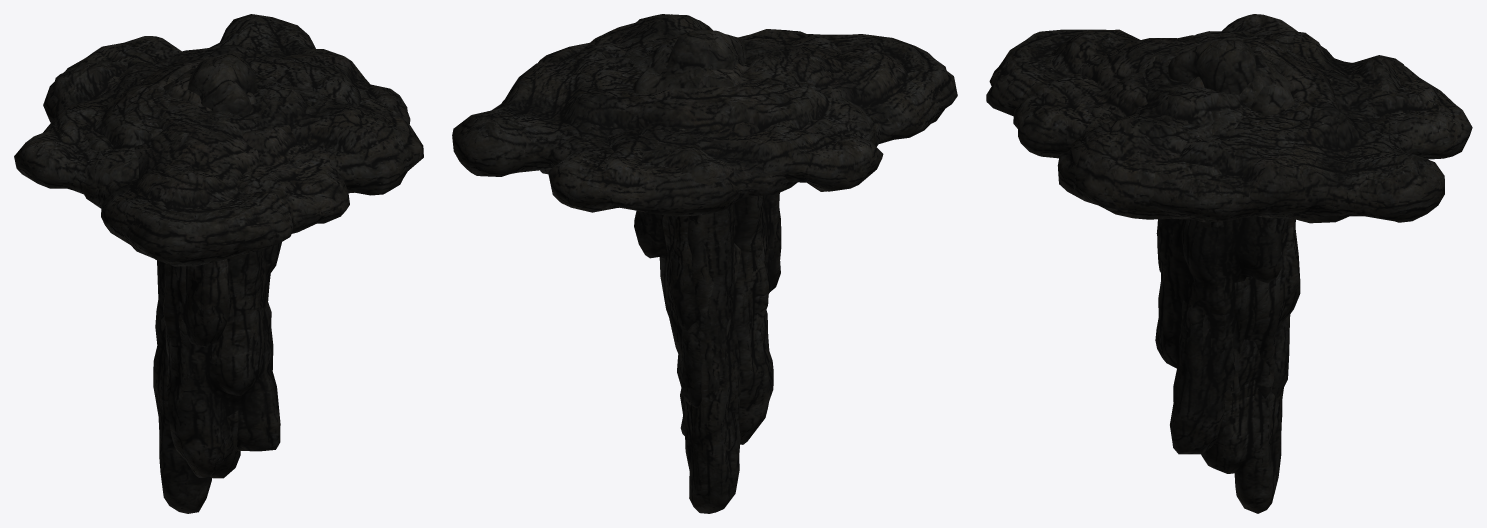
File: LavaStonesSmall.FBX
3 renders of one model, left to right at view 1: azimuth 30°, elevation 25°; view 2: azimuth 150°, elevation 25°; view 3: azimuth 270°, elevation 25°, orthographic. The views are drawn at different scales.
Parts seen in each view (by area): view 1: Object001, Object007, Object005, Object003; view 2: Object007, Object001, Object003, Object005; view 3: Object007, Object001, Object005, Object003.
Boxes of the visible parts, left/top/right/bottom form: Object001: left=43, top=36, right=423, bottom=266; Object007: left=14, top=14, right=410, bottom=233; Object005: left=161, top=51, right=281, bottom=477; Object003: left=153, top=73, right=268, bottom=513; Object007: left=452, top=29, right=883, bottom=191; Object001: left=548, top=14, right=957, bottom=216; Object003: left=653, top=62, right=781, bottom=513; Object005: left=633, top=29, right=773, bottom=444; Object007: left=1013, top=14, right=1444, bottom=223; Object001: left=986, top=29, right=1472, bottom=219; Object005: left=1155, top=40, right=1295, bottom=454; Object003: left=1157, top=50, right=1300, bottom=513.
Size of the model in its own units: 282 by 352 by 323.
